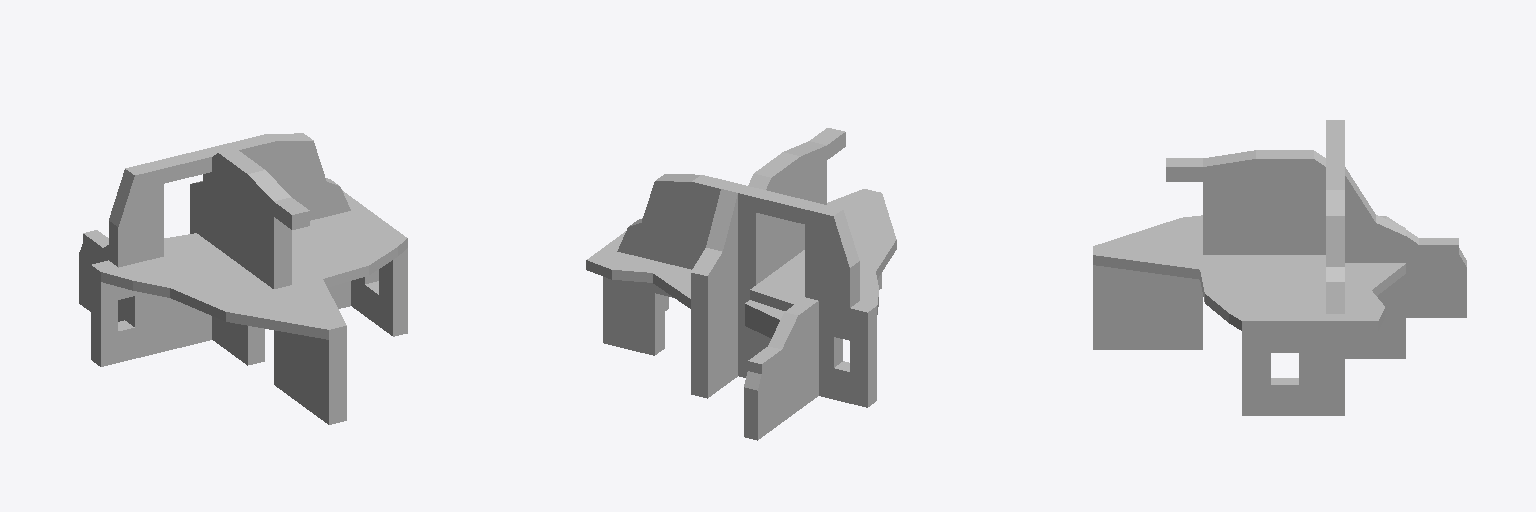
Rendered from stoneruins.obj.
The picture shows the model from 3 angles: view 1: azimuth 30°, elevation 25°; view 2: azimuth 150°, elevation 25°; view 3: azimuth 270°, elevation 25°; orthographic projection.
Visible parts, largest first — view 1: Cube; view 2: Cube; view 3: Cube.
Part boxes in pixels (x1,y1,x2,y2): Cube: (79, 133, 407, 424); Cube: (586, 128, 896, 440); Cube: (1093, 120, 1466, 415).
Size of the model in its own units: 9.91 by 6.85 by 12.14.